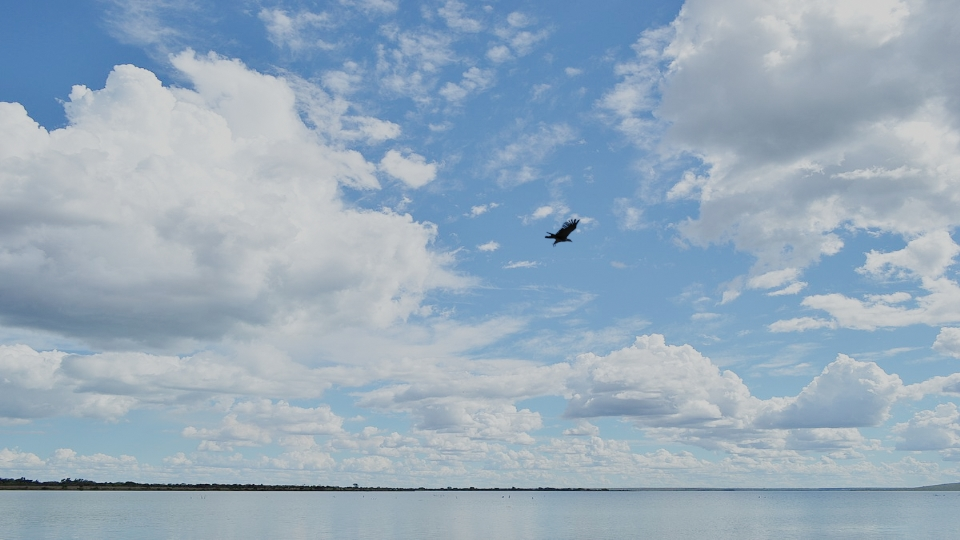bird: (544, 216, 581, 248)
